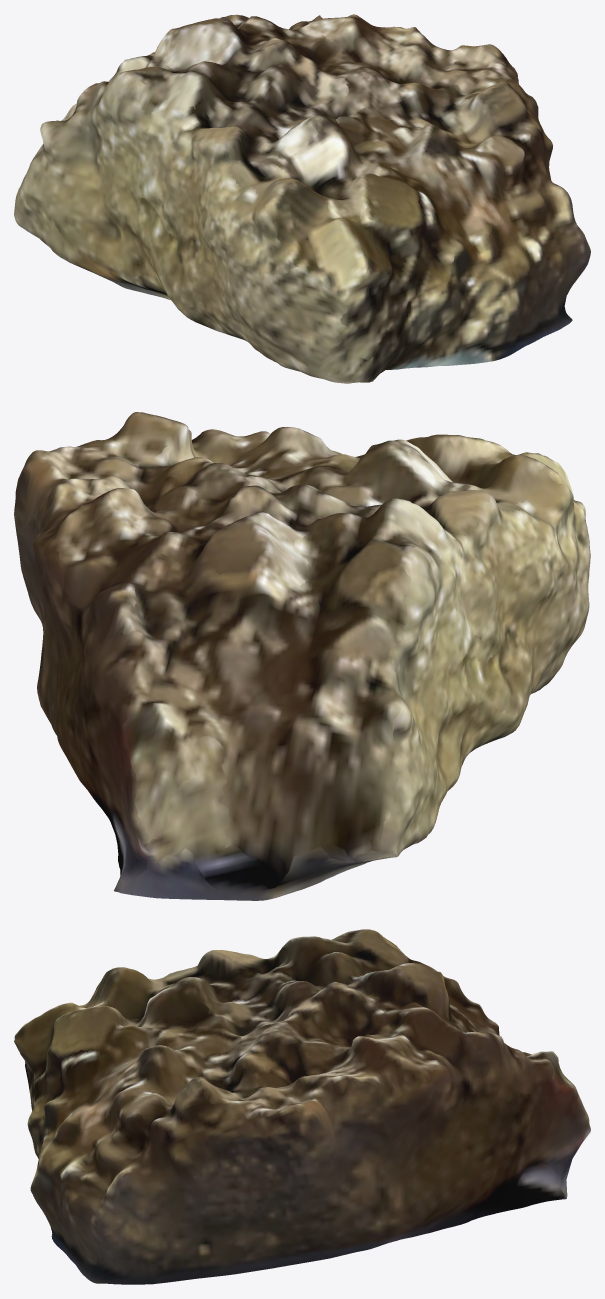
File: pyrite.glb
The picture shows the model from 3 angles, top to bottom: view 1: azimuth 30°, elevation 25°; view 2: azimuth 150°, elevation 25°; view 3: azimuth 270°, elevation 25°; orthographic projection. The views are drawn at different scales.
Visible parts, largest first — view 1: Object_2; view 2: Object_2; view 3: Object_2.
Part boxes in pixels (bbox=[...]): Object_2: bbox=[14, 14, 590, 383]; Object_2: bbox=[14, 412, 590, 900]; Object_2: bbox=[14, 929, 590, 1284].
Bounding box in the file's own units: 0.0584 × 0.0324 × 0.0761.
1 material, 1 textured.
